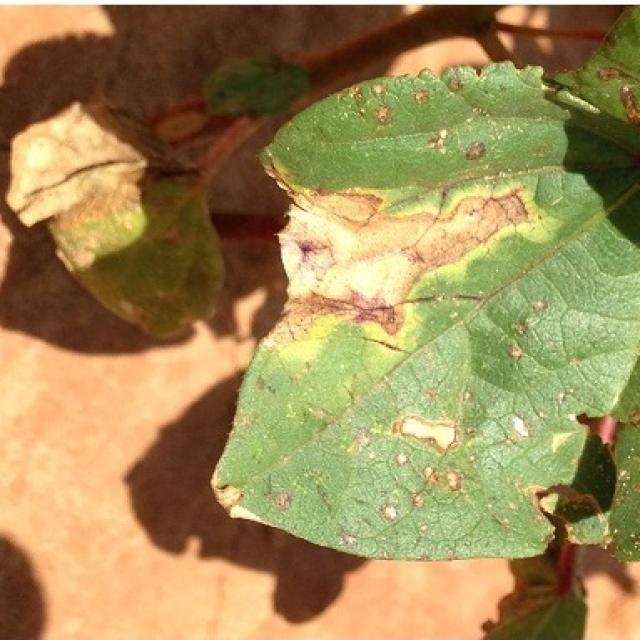Fusarium Wilt: (280, 173, 545, 340)
